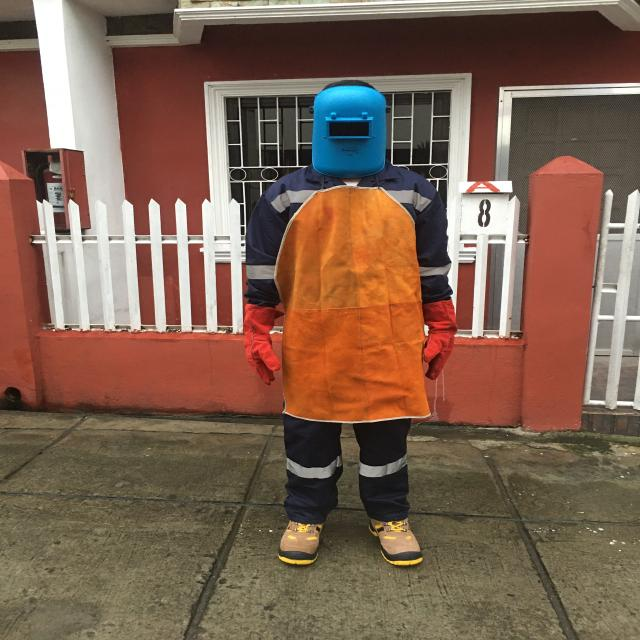with_helmet: (312, 85, 386, 178)
